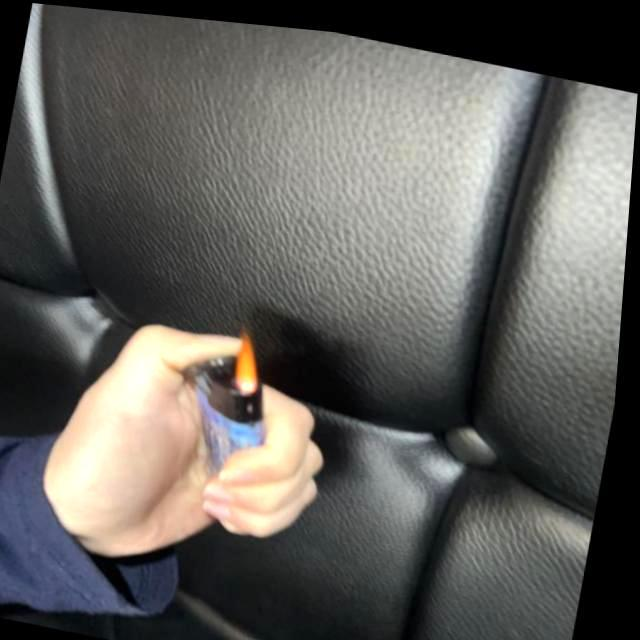fire: (228, 322, 278, 392)
